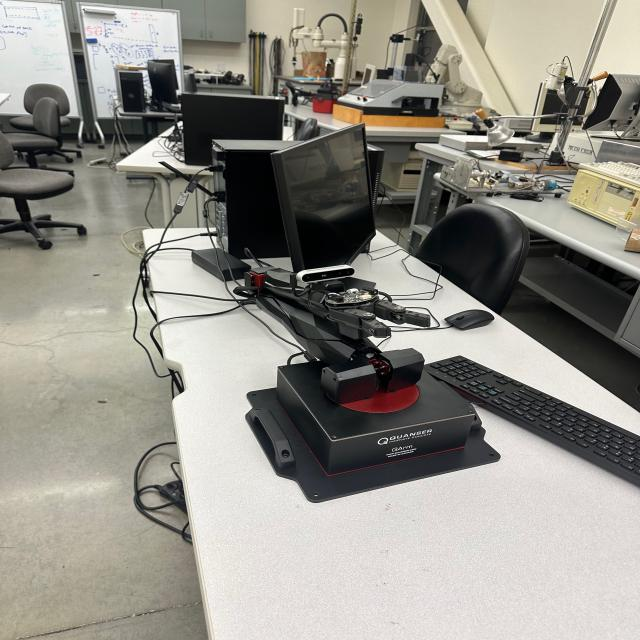monitor: (256, 120, 398, 277), (141, 56, 188, 102)
robotic-arm: (233, 259, 438, 401)
